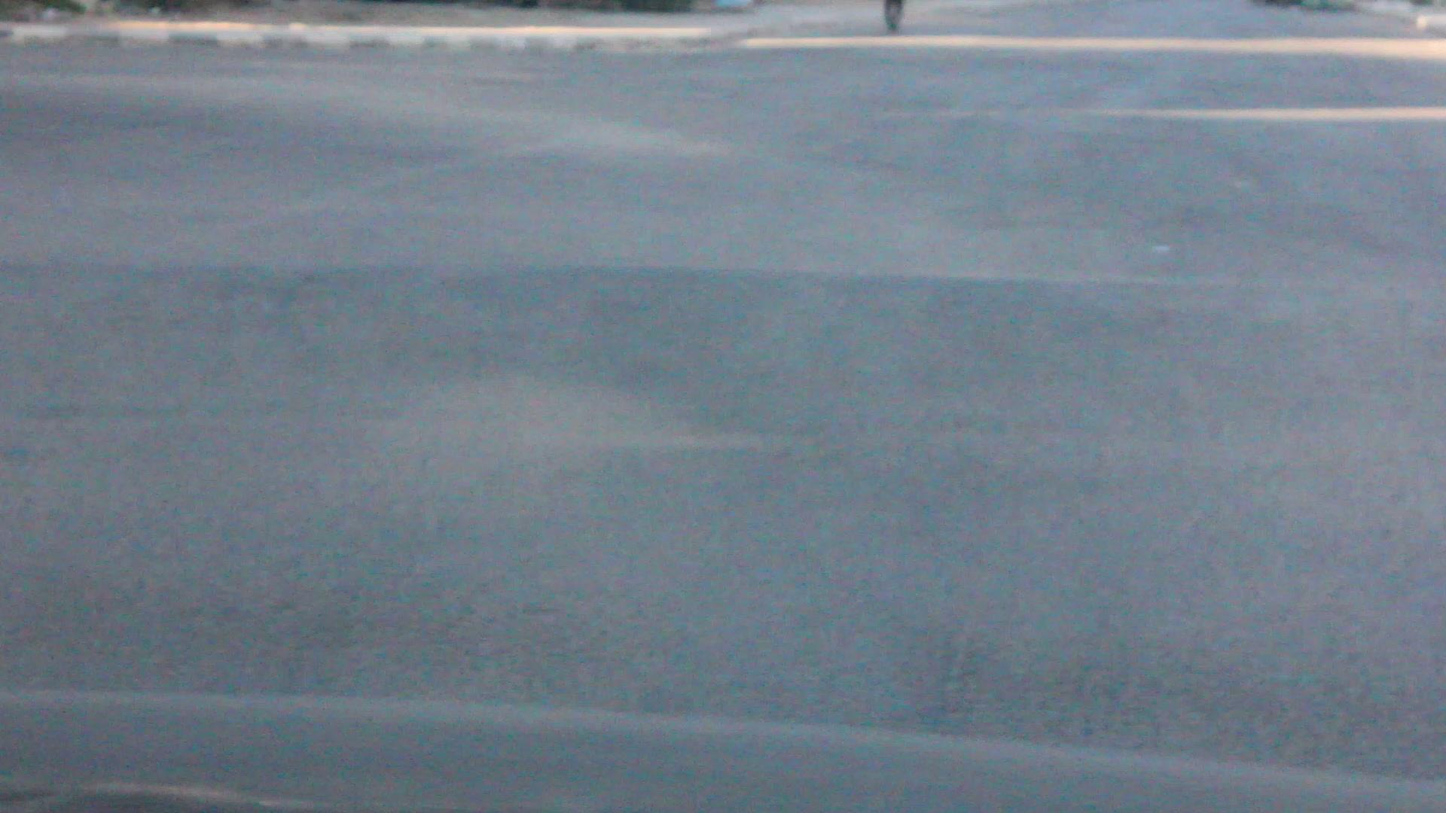Bump: (8, 401, 1446, 779)
